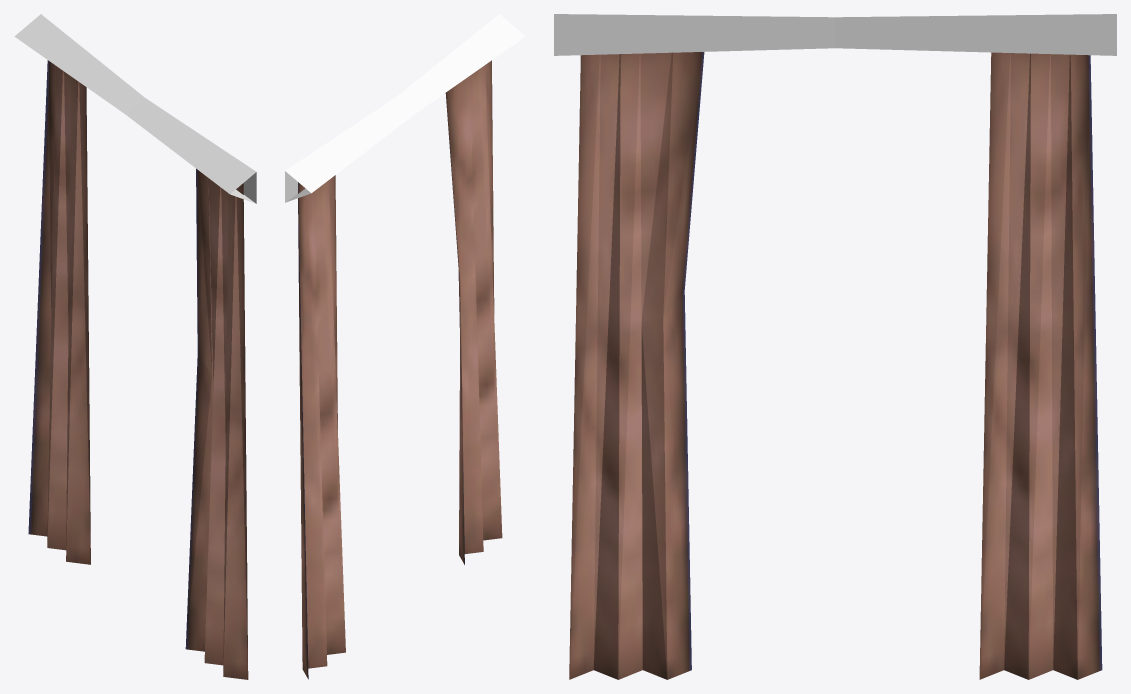
File: Vorhang [Offen]_1006.glb
3 renders of one model, left to right at view 1: azimuth 30°, elevation 25°; view 2: azimuth 150°, elevation 25°; view 3: azimuth 270°, elevation 25°, orthographic. The views are drawn at different scales.
Parts seen in each view (by area): view 1: pPlaneShape75, pPlaneShape74, pCylinderShape129; view 2: pPlaneShape74, pPlaneShape75, pCylinderShape129; view 3: pPlaneShape75, pPlaneShape74, pCylinderShape129.
Part boxes in pixels (bbox=[...]): pPlaneShape75: bbox=[185, 168, 248, 679]; pPlaneShape74: bbox=[28, 60, 90, 564]; pCylinderShape129: bbox=[14, 14, 256, 203]; pPlaneShape74: bbox=[298, 175, 345, 679]; pPlaneShape75: bbox=[445, 60, 502, 564]; pCylinderShape129: bbox=[285, 14, 525, 202]; pPlaneShape75: bbox=[569, 52, 704, 679]; pPlaneShape74: bbox=[979, 52, 1102, 679]; pCylinderShape129: bbox=[554, 14, 1116, 55].
Size of the model in its own units: 0.0109 by 0.1995 by 0.1524.
Materials: 3 (2 with a texture image).
